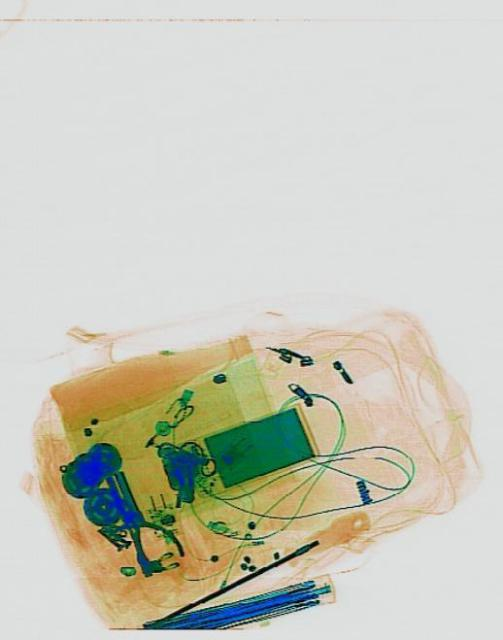Pliers: (96, 479, 186, 585)
